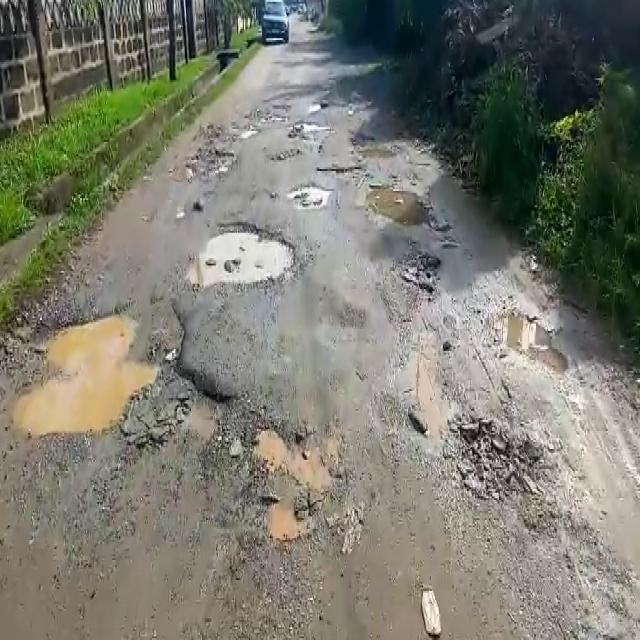Pothole: (4, 300, 241, 446), (232, 422, 344, 554), (448, 416, 553, 509), (181, 218, 304, 290), (482, 302, 570, 379), (364, 186, 436, 228), (388, 248, 438, 306), (174, 151, 234, 187), (289, 181, 330, 208), (313, 160, 363, 174)
